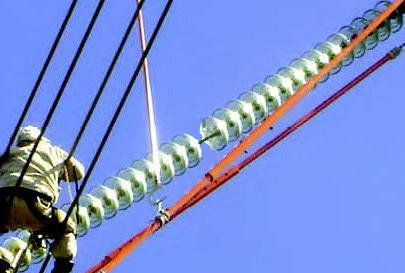gap: (172, 115, 229, 169)
